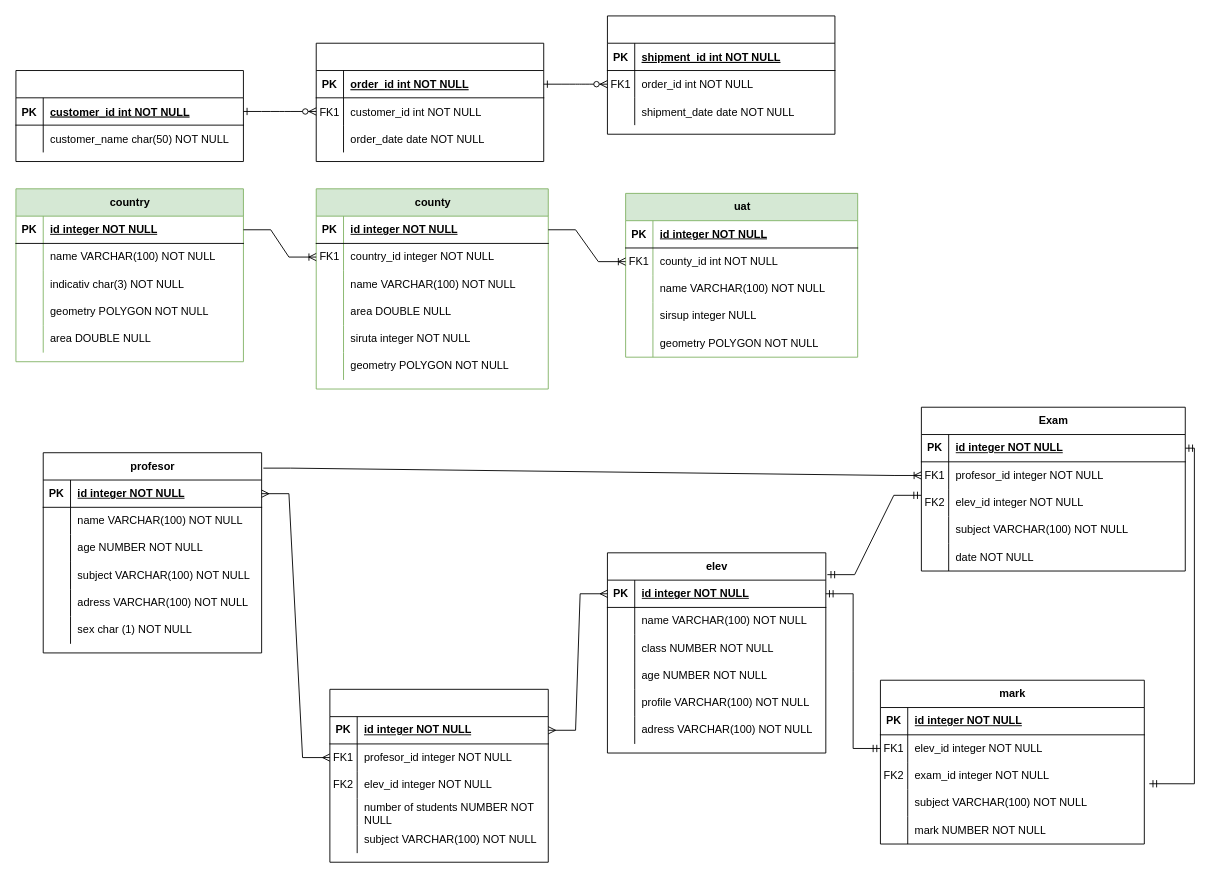
This 1218x878 diagram has some shape labels left out. The box of each missing label's shape, as (x1, y1, x2, y2) in pixels:
class: (329, 688, 548, 862)
Customers: (15, 70, 243, 162)
Orders: (315, 42, 544, 162)
Shipments: (607, 15, 835, 134)
